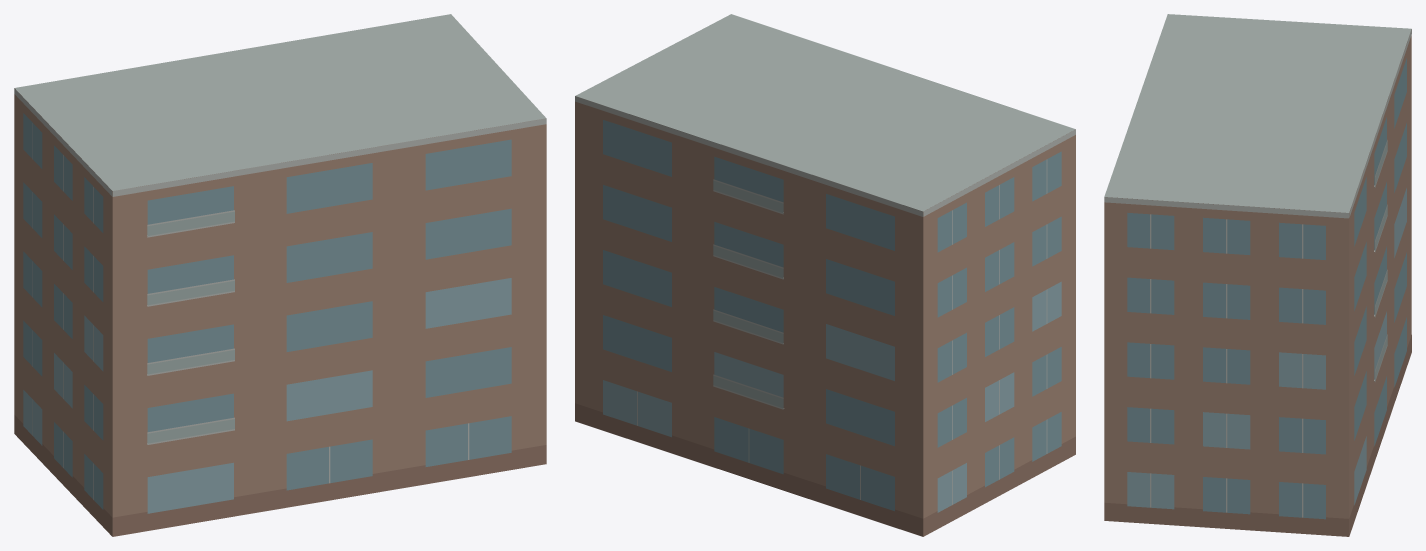
File: survey-upis-32937996.glb
3 renders of one model, left to right at view 1: azimuth 30°, elevation 25°; view 2: azimuth 150°, elevation 25°; view 3: azimuth 270°, elevation 25°, orthographic. The views are drawn at different scales.
Visible parts, largest first — view 1: survey-upis-32937996.tmp; view 2: survey-upis-32937996.tmp; view 3: survey-upis-32937996.tmp.
Boxes of the visible parts, x1,y1,x2,y2 form: survey-upis-32937996.tmp: [14, 14, 546, 536]; survey-upis-32937996.tmp: [575, 14, 1075, 536]; survey-upis-32937996.tmp: [1104, 14, 1411, 536].
Size of the model in its own units: 18.98 by 14.4 by 12.4.
